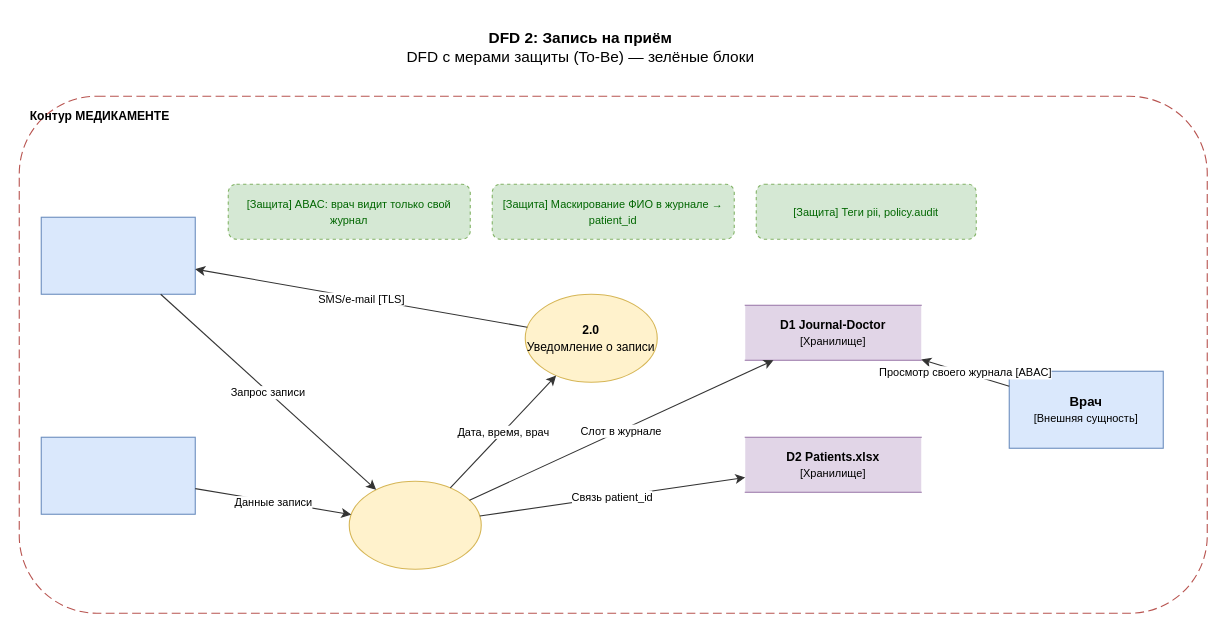
Image size: 1227x633. Some labels were removed from this diagram. Each missing label, with the centre of its shape:
1.0 Запись на приём: point (414, 524)
Пациент [Внешняя сущность]: point (117, 255)
Ресепшен [Внешняя сущность]: point (117, 475)
